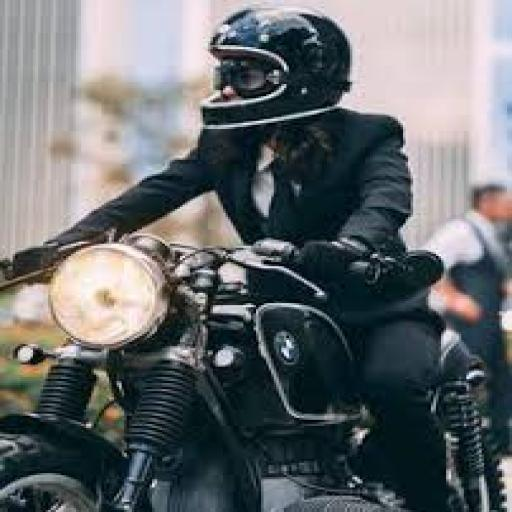helmet: (195, 4, 352, 129)
overloading: (0, 229, 509, 509)
